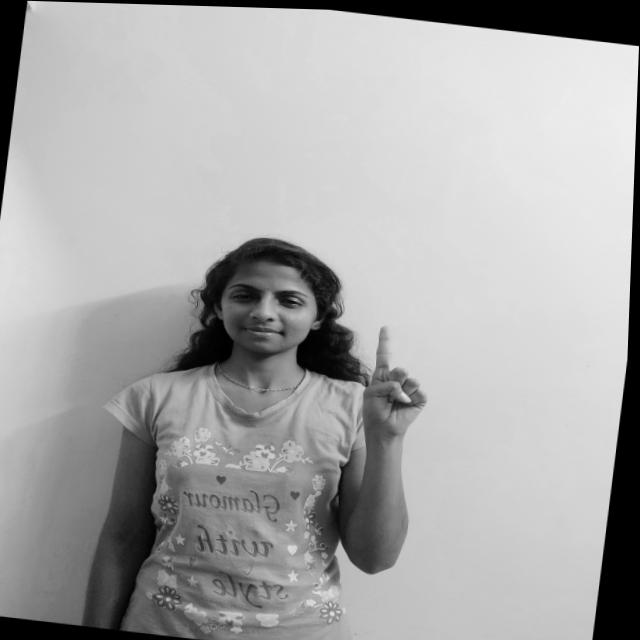Question: (346, 314, 449, 450)
